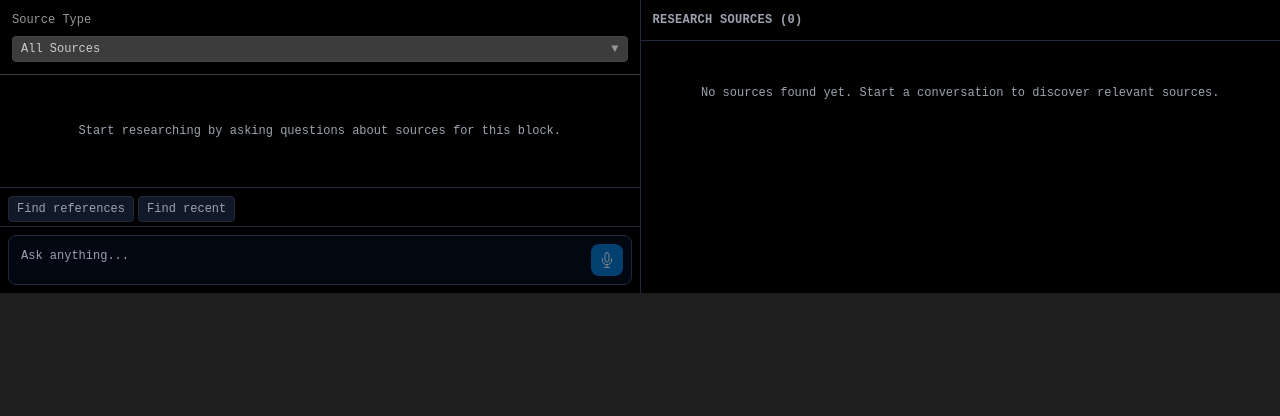
ResearchTab › should send message when input is submitted
Type "Find sources about quantum computing" into the text box with placeholder "Ask anything...". click: (320, 256)
box: [9,236,630,276]
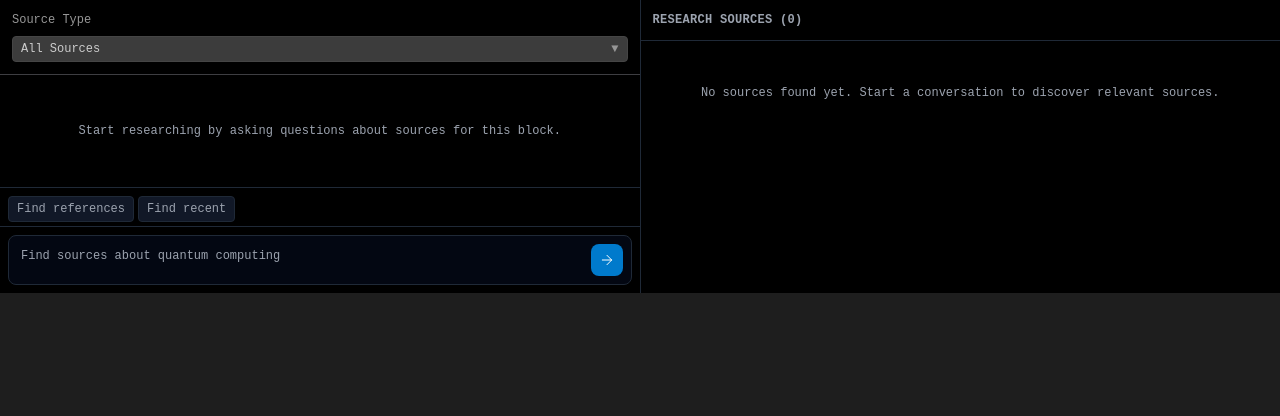
Click the button named "send". click: (606, 260)
box: [590,244,622,276]
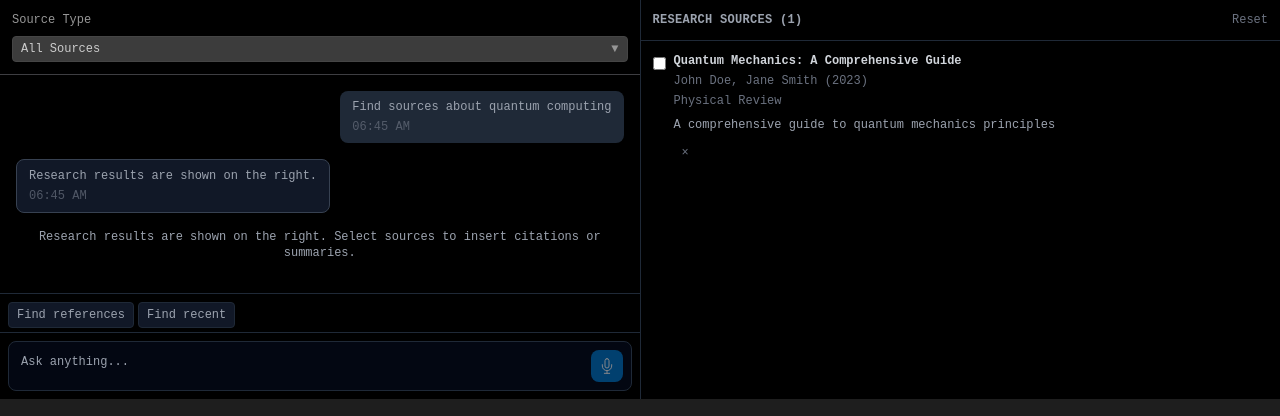
Result: the text "Find sources about quantum computing" is shown at [352,99,612,115]
